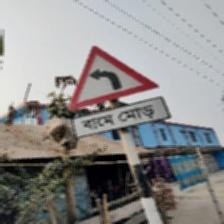Left-Turn: (67, 46, 168, 140)
